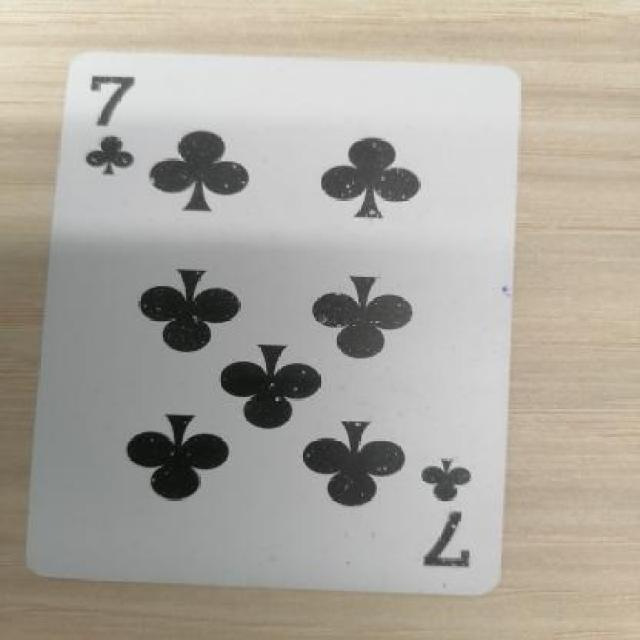7C: (66, 61, 169, 187), (410, 447, 502, 575)
